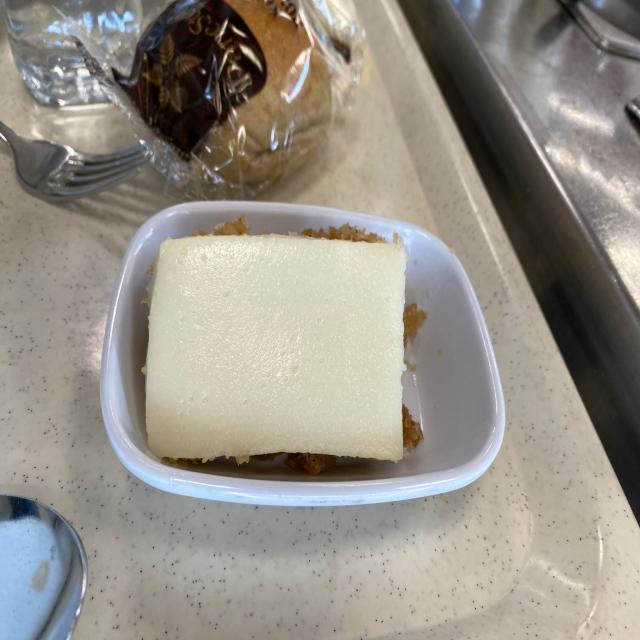yan_yemek: (142, 224, 410, 469)
